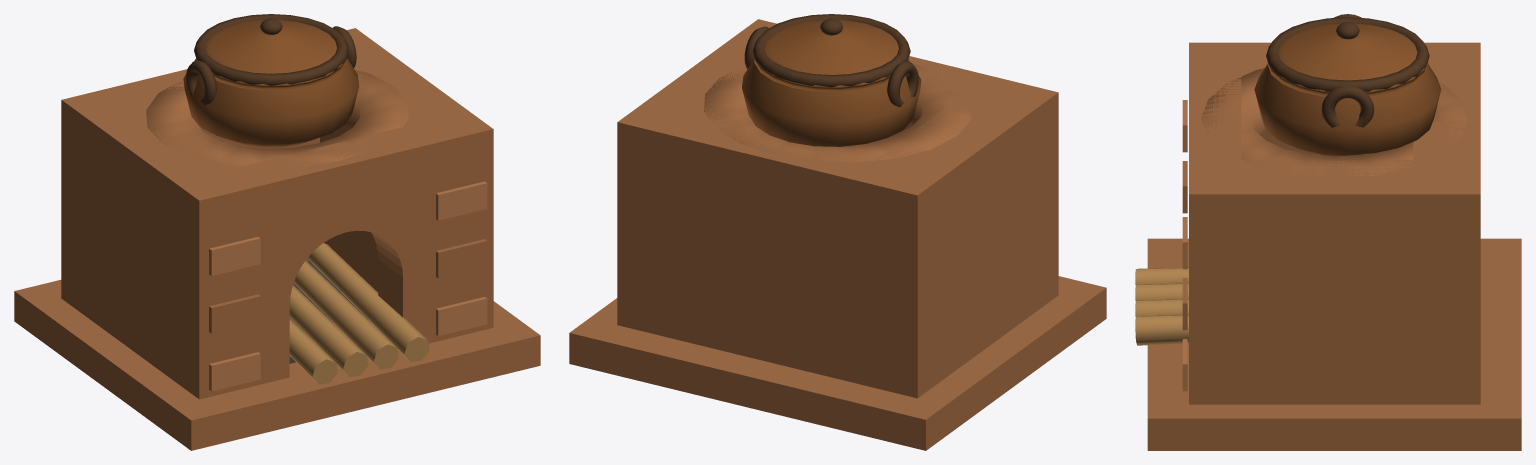
The model's file is LV_BEP_CUI_01.glb.
3 views of the same model, side by side, from view 1: azimuth 30°, elevation 25°; view 2: azimuth 150°, elevation 25°; view 3: azimuth 270°, elevation 25° (orthographic). The views are drawn at different scales.
Parts seen in each view (by area): view 1: LV_BEP_CUI_01-surface-a36a40, LV_BEP_CUI_01-surface-855127, LV_BEP_CUI_01-surface-b68850, LV_BEP_CUI_01-surface-b5784b, LV_BEP_CUI_01-surface-50351f; view 2: LV_BEP_CUI_01-surface-a36a40, LV_BEP_CUI_01-surface-855127, LV_BEP_CUI_01-surface-50351f; view 3: LV_BEP_CUI_01-surface-a36a40, LV_BEP_CUI_01-surface-855127, LV_BEP_CUI_01-surface-50351f, LV_BEP_CUI_01-surface-b68850, LV_BEP_CUI_01-surface-b5784b.
Part boxes in pixels (bbox=[...]): LV_BEP_CUI_01-surface-a36a40: bbox=[14, 28, 540, 450]; LV_BEP_CUI_01-surface-855127: bbox=[183, 20, 359, 147]; LV_BEP_CUI_01-surface-b68850: bbox=[289, 243, 429, 384]; LV_BEP_CUI_01-surface-b5784b: bbox=[209, 181, 487, 391]; LV_BEP_CUI_01-surface-50351f: bbox=[186, 14, 356, 105]; LV_BEP_CUI_01-surface-a36a40: bbox=[569, 19, 1106, 450]; LV_BEP_CUI_01-surface-855127: bbox=[742, 20, 921, 146]; LV_BEP_CUI_01-surface-50351f: bbox=[744, 14, 918, 107]; LV_BEP_CUI_01-surface-a36a40: bbox=[1147, 42, 1521, 450]; LV_BEP_CUI_01-surface-855127: bbox=[1254, 23, 1441, 156]; LV_BEP_CUI_01-surface-50351f: bbox=[1266, 14, 1429, 127]; LV_BEP_CUI_01-surface-b68850: bbox=[1135, 267, 1188, 345]; LV_BEP_CUI_01-surface-b5784b: bbox=[1182, 100, 1187, 391].
Bounding box in the file's own units: 1.14 × 0.9964 × 1.03.
